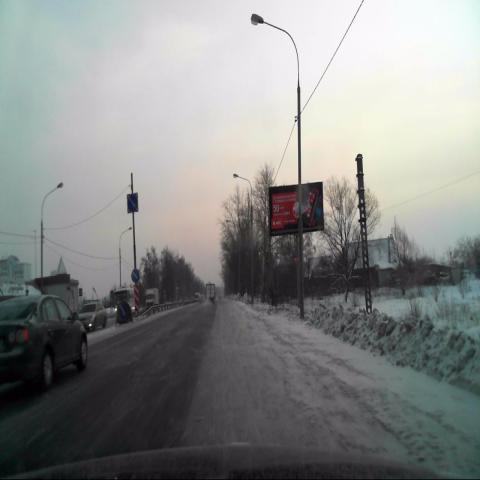4_2_1: (126, 193, 140, 214)
